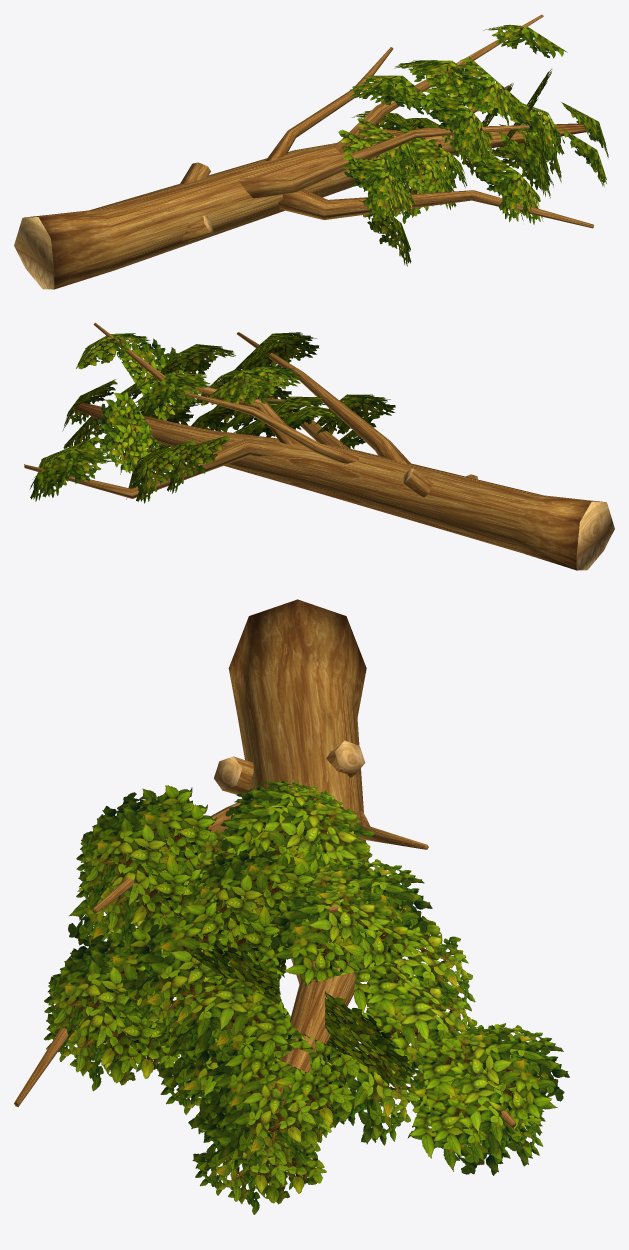
File: obj_madaprtree04.glb
The picture shows the model from 3 angles, top to bottom: view 1: azimuth 30°, elevation 25°; view 2: azimuth 150°, elevation 25°; view 3: azimuth 270°, elevation 25°; orthographic projection. The views are drawn at different scales.
Parts seen in each view (by area): view 1: part_0; view 2: part_0; view 3: part_0.
Boxes of the visible parts, box(x1,y1,x2,y2) form: part_0: box(14, 14, 608, 289); part_0: box(24, 322, 614, 570); part_0: box(14, 599, 569, 1214).
Bounding box in the file's own units: 24.97 × 7.48 × 13.38.
Materials: 2 (2 with a texture image).
